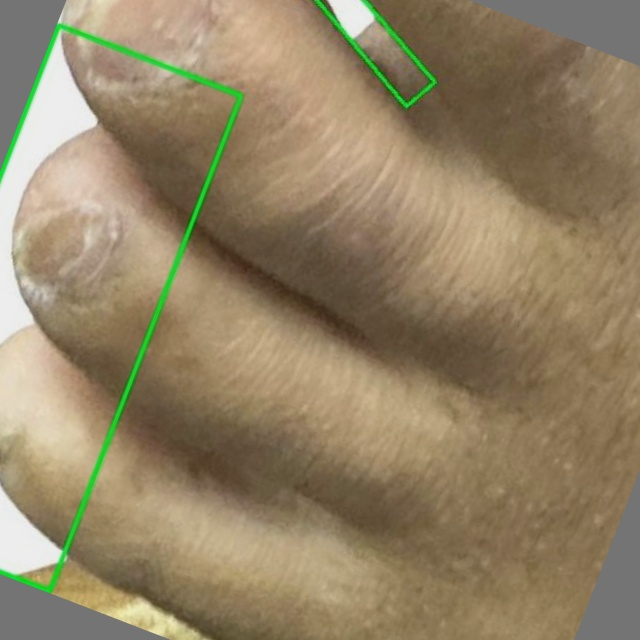Tinea Corporis: (0, 24, 239, 591)
